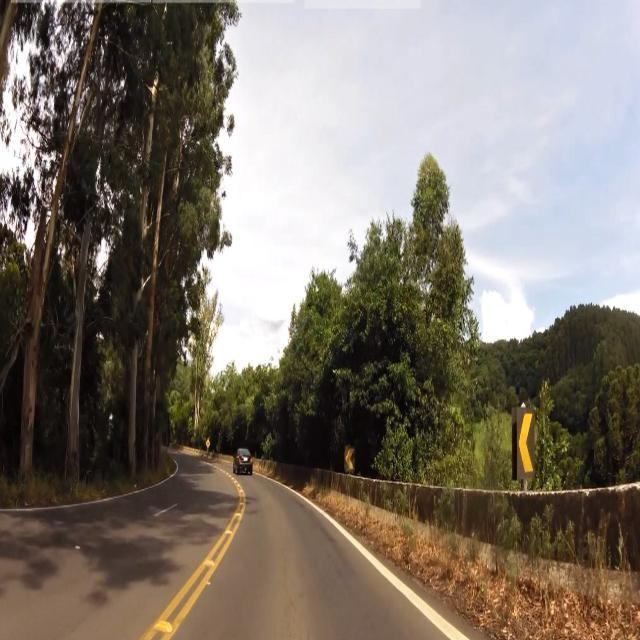Del: (513, 404, 535, 472), (343, 441, 358, 474)
